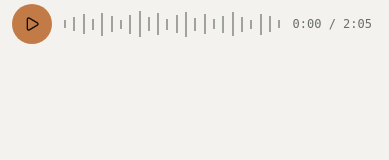
Test case: VoiceMessageBubble › mostra duração real e permite reproduzir, pausar e buscar no áudio
Later steps or results of the test are not shown.
Click the button named "Reproduzir áudio" at (32,24), box left=12, top=4, right=52, bottom=44
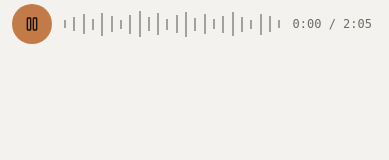
Set the slider labelled "0:00 / 2:05" to "30" at (192,24), box left=12, top=0, right=372, bottom=48
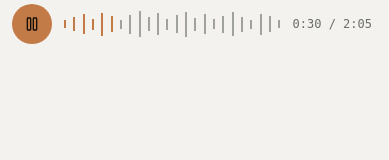
Check: the text "0:30 / 2:05" is shown, box left=292, top=16, right=372, bottom=32
